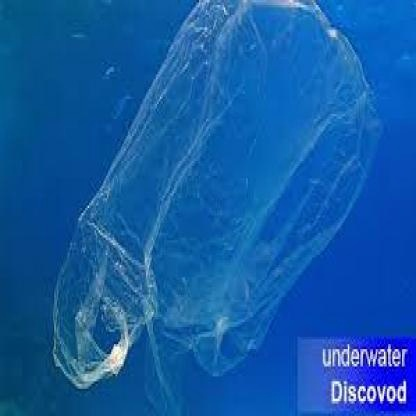pbag: (50, 3, 385, 406)
